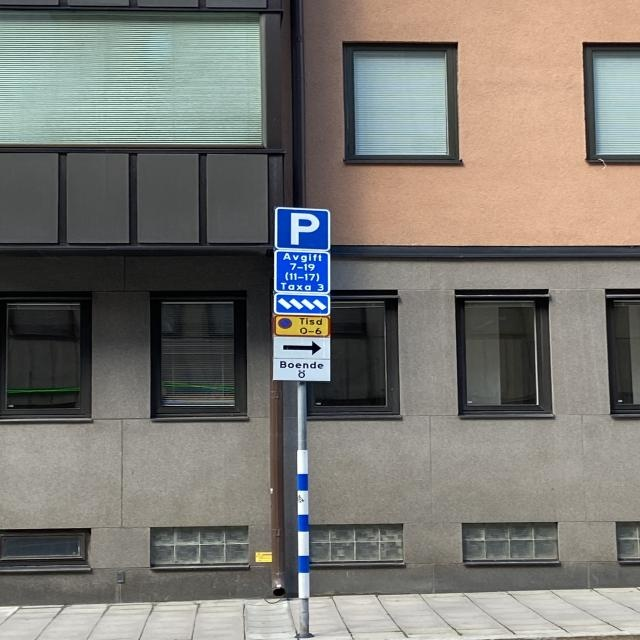P-skylt: (273, 206, 333, 252)
